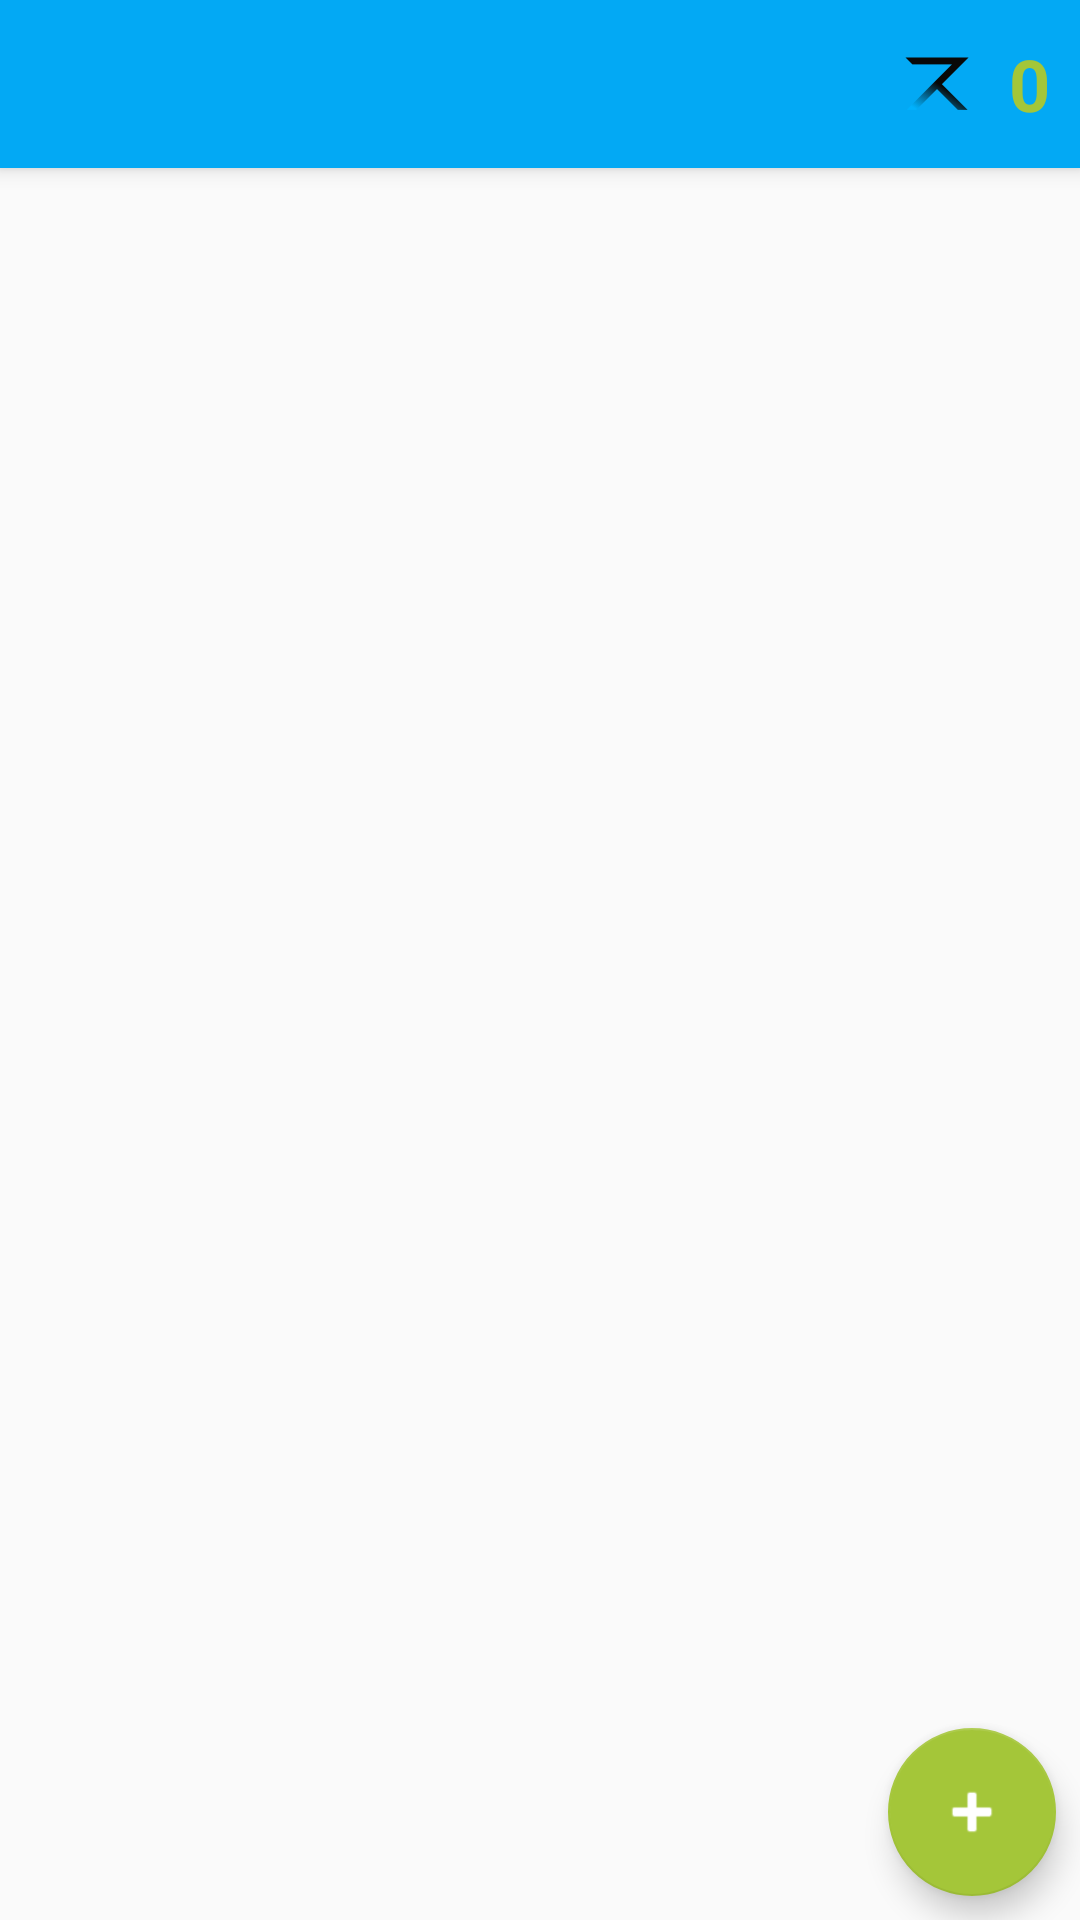

Icon click points for this 1080*1920 phone screenshot, format (x=x, y=y):
add: (x=972, y=1812)
